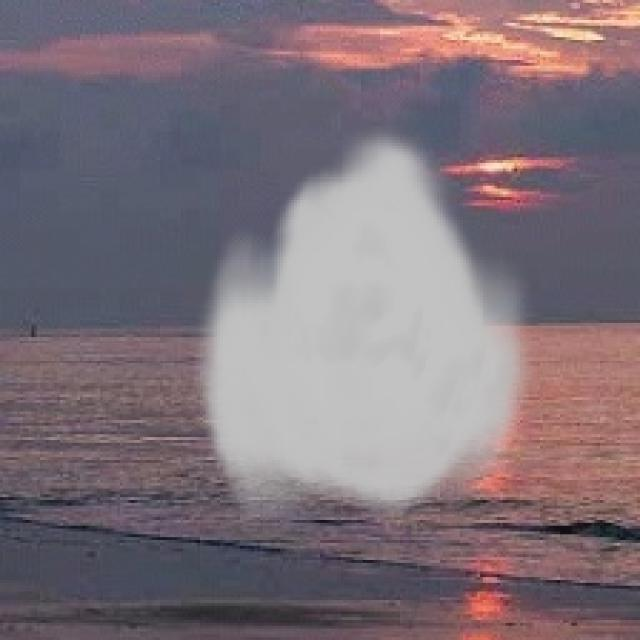Smoke: (195, 125, 540, 520)
